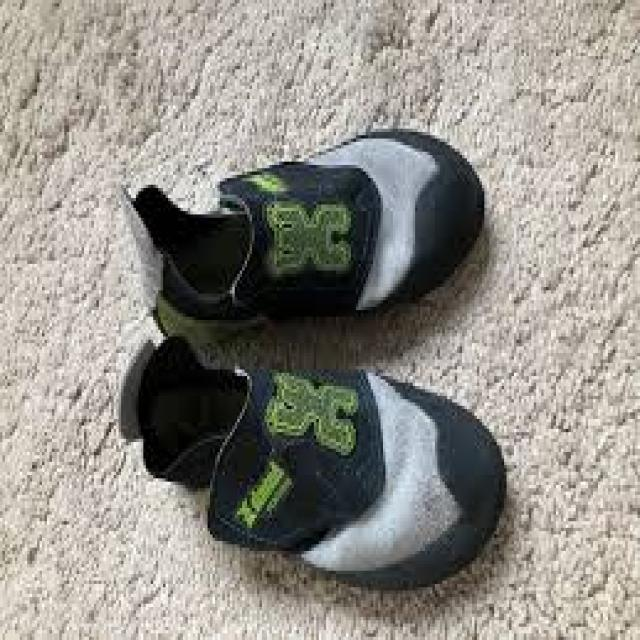climbing-shoes: (122, 334, 509, 591), (120, 126, 490, 332)
